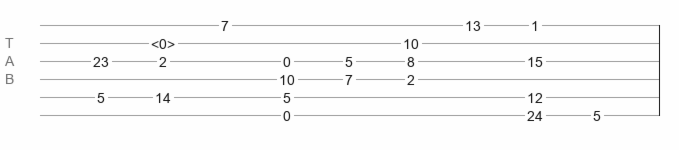0: (283, 54, 291, 64), (283, 108, 291, 118)
1: (531, 18, 539, 28)
10: (279, 72, 295, 82), (403, 36, 419, 46)
12: (527, 90, 543, 100)
13: (465, 18, 481, 28)
14: (155, 90, 171, 100)
15: (527, 54, 543, 64)
2: (159, 54, 167, 64), (407, 72, 415, 82)
23: (93, 54, 109, 64)
24: (527, 108, 543, 118)
5: (97, 90, 105, 100), (283, 90, 291, 100), (345, 54, 353, 64), (593, 108, 601, 118)
7: (221, 18, 229, 28), (345, 72, 353, 82)
8: (407, 54, 415, 64)
harmonic: (151, 36, 175, 46)
